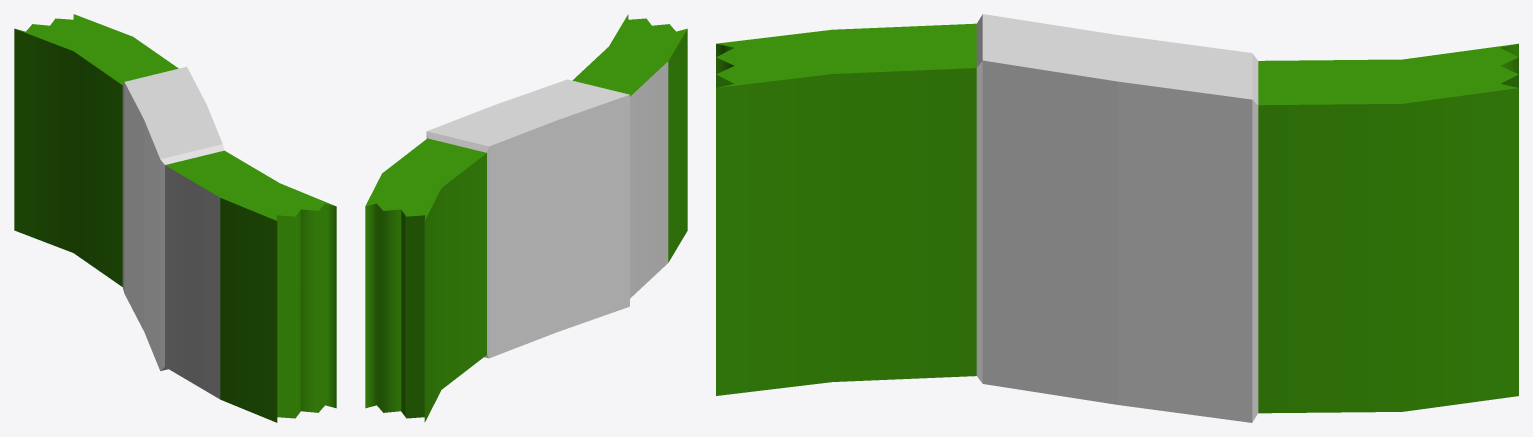
File: Money.fbx
The picture shows the model from 3 angles, left to right: view 1: azimuth 30°, elevation 25°; view 2: azimuth 150°, elevation 25°; view 3: azimuth 270°, elevation 25°; orthographic projection. The views are drawn at different scales.
Parts seen in each view (by area): view 1: pCube1; view 2: pCube1; view 3: pCube1.
Boxes of the visible parts, x1,y1,x2,y2 form: pCube1: (14,14,336,422); pCube1: (365,14,687,422); pCube1: (716,14,1518,422).
Size of the model in its own units: 1.45 by 2.56 by 5.75.
